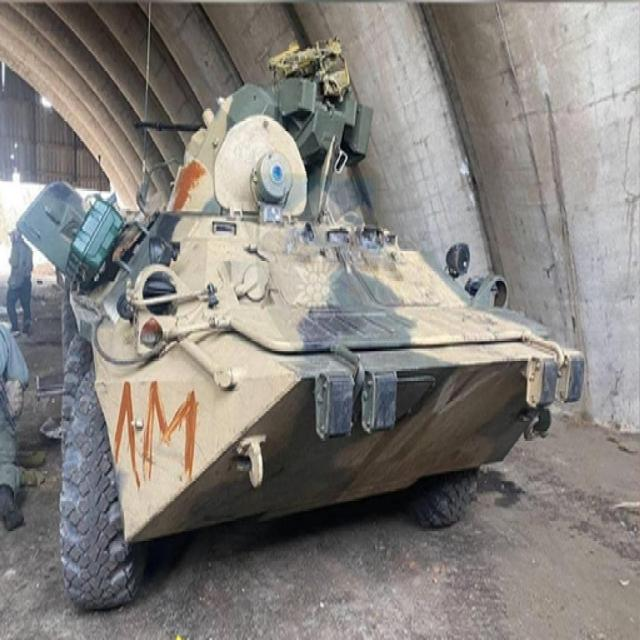APC-IFV: (14, 42, 574, 616)
